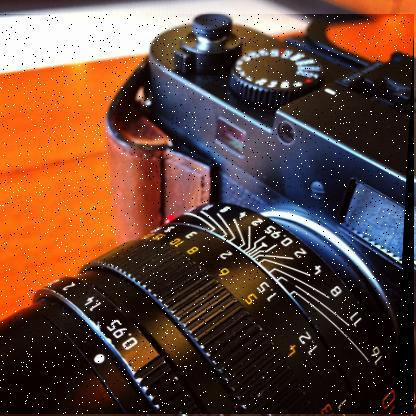Camera: (1, 15, 416, 416)
